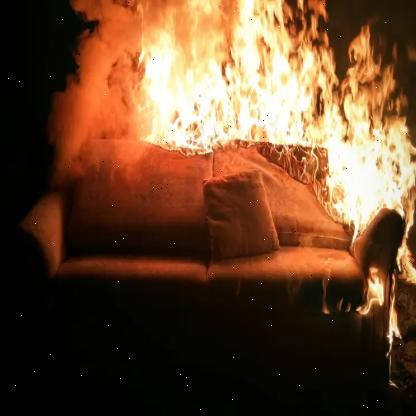fire: (143, 0, 415, 237)
smoke: (52, 0, 180, 188)
